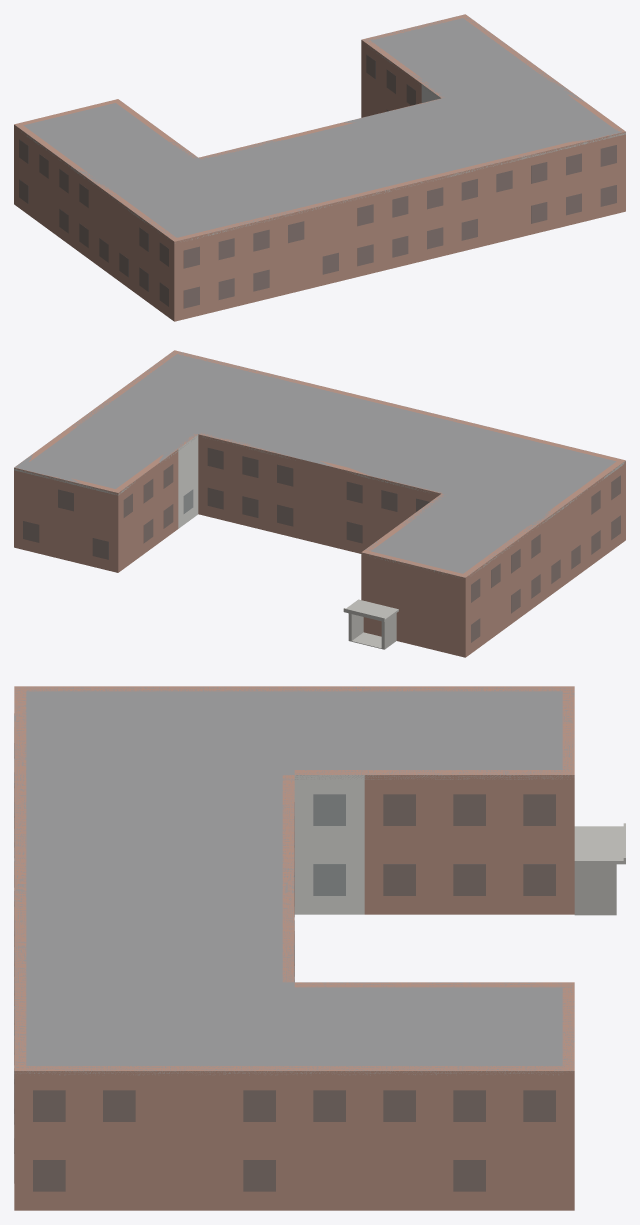
The picture shows the model from 3 angles, top to bottom: view 1: azimuth 30°, elevation 25°; view 2: azimuth 150°, elevation 25°; view 3: azimuth 270°, elevation 25°; orthographic projection. The views are drawn at different scales.
Visible parts, largest first — view 1: b7_lod2_outer__brick_facade, b7_lod2_slab__roof, b7_lod2_glass, b7_lod2_slab__slab_edge; view 2: b7_lod2_outer__brick_facade, b7_lod2_slab__roof, b7_lod2_glass, b7_lod2_outer__wall_room, b7_lod2_porch__monolith, b7_lod2_slab__slab_edge, b7_lod2_canopy__monolith; view 3: b7_lod2_slab__roof, b7_lod2_outer__brick_facade, b7_lod2_glass, b7_lod2_outer__wall_room, b7_lod2_porch__monolith, b7_lod2_canopy__monolith, b7_lod2_slab__slab_edge.
Boxes of the visible parts, box(x1,y1,x2,y2) form: b7_lod2_outer__brick_facade: box(14, 14, 625, 321); b7_lod2_slab__roof: box(20, 16, 624, 240); b7_lod2_glass: box(19, 55, 616, 308); b7_lod2_slab__slab_edge: box(15, 45, 625, 243); b7_lod2_outer__brick_facade: box(14, 350, 625, 657); b7_lod2_slab__roof: box(14, 351, 618, 576); b7_lod2_glass: box(23, 448, 620, 642); b7_lod2_outer__wall_room: box(178, 435, 198, 528); b7_lod2_porch__monolith: box(348, 613, 396, 649); b7_lod2_slab__slab_edge: box(14, 434, 625, 577); b7_lod2_canopy__monolith: box(343, 599, 398, 621); b7_lod2_slab__roof: box(14, 686, 574, 1070); b7_lod2_outer__brick_facade: box(14, 686, 574, 1210); b7_lod2_glass: box(14, 714, 555, 1191); b7_lod2_outer__wall_room: box(294, 775, 364, 914); b7_lod2_porch__monolith: box(574, 864, 616, 915); b7_lod2_canopy__monolith: box(574, 823, 625, 864); b7_lod2_slab__slab_edge: box(14, 775, 572, 1075).
Size of the model in its own units: 39.04 by 6.6 by 26.22.
